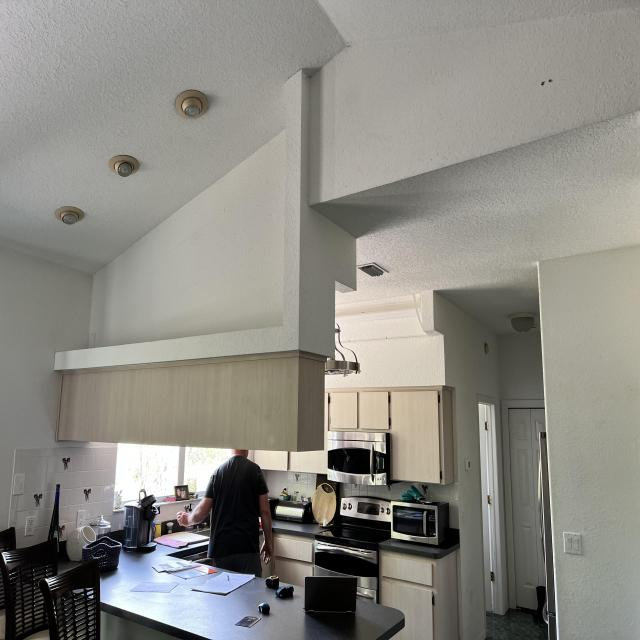Appliance_Microwave: (327, 430, 390, 487)
Appliance_Oven: (313, 497, 391, 600)
Cabinet_Flat: (330, 390, 442, 484), (379, 551, 436, 640), (276, 536, 314, 588), (248, 451, 328, 474)
Countertop_Solid_Surface: (101, 546, 405, 640), (380, 529, 460, 559), (274, 521, 320, 534)
